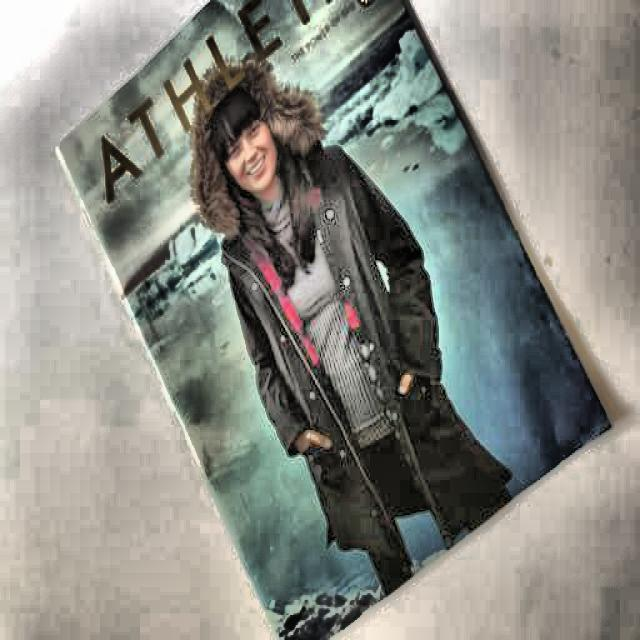paper: (54, 0, 607, 640)
